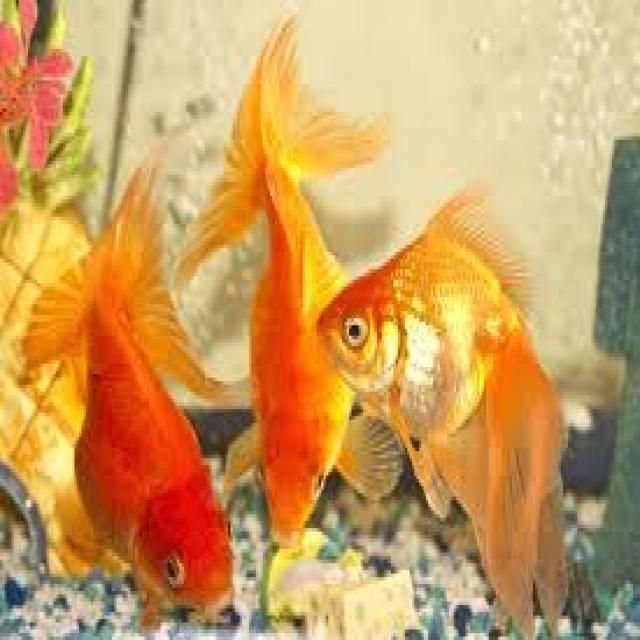goldfish: (316, 211, 588, 617), (208, 19, 356, 558)
